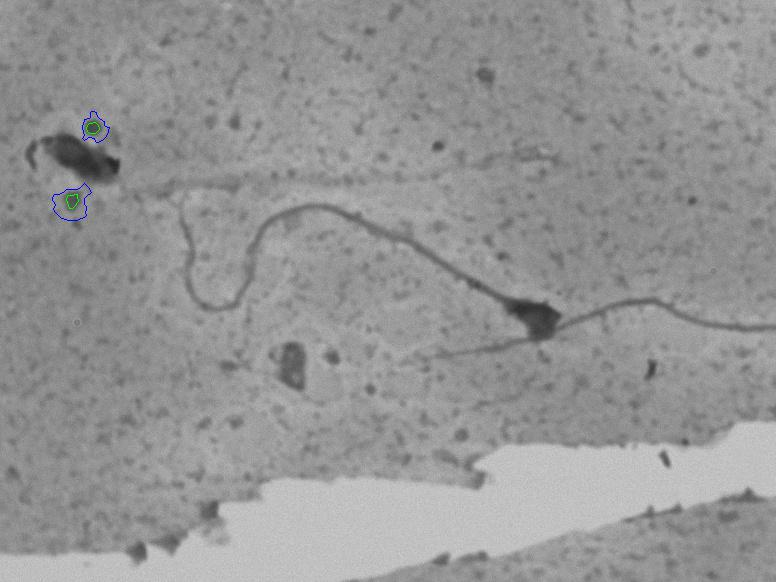Abnormal: (140, 162, 586, 371)
